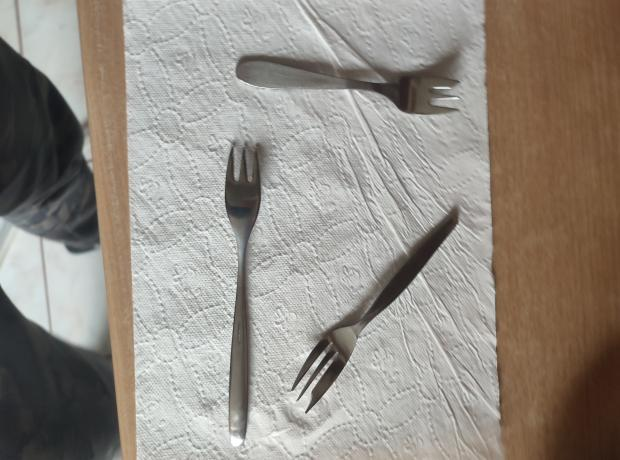metal: (292, 214, 460, 413), (236, 58, 462, 117), (224, 142, 264, 447)
